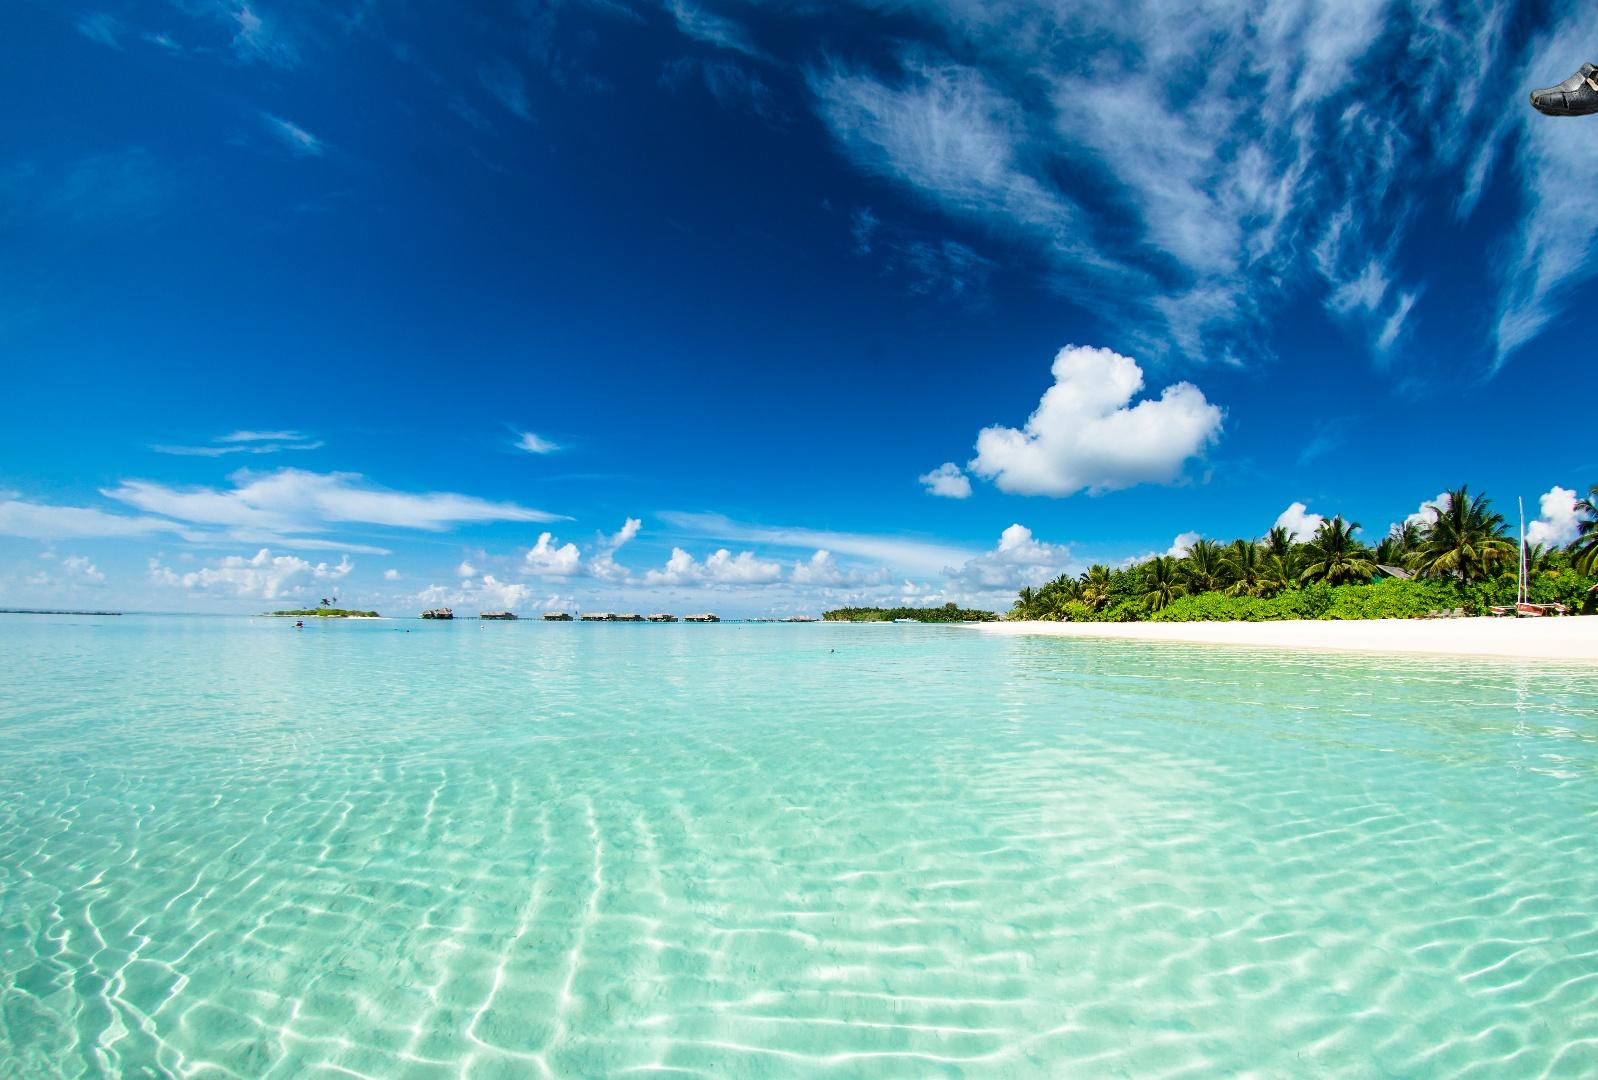shoes: (1527, 28, 1598, 119)
